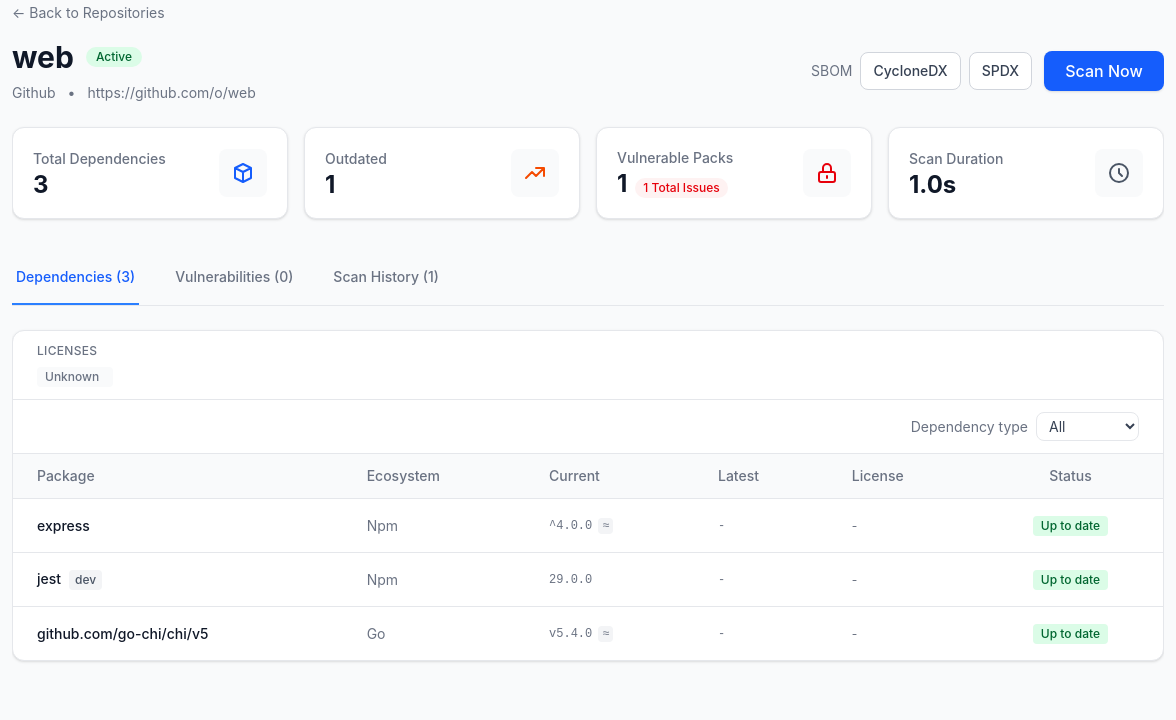
RepoDetail › dependency table › shows an empty message when the filter matches nothing, keeping the tab count
The width and height of the screenshot is (1176, 720).
Expected: the text "express" is shown, [13,498,343,552]
Select "Transitive" in the dropdown labelled "Dependency type" at coordinates (1088, 426), box [1036,412,1139,441]
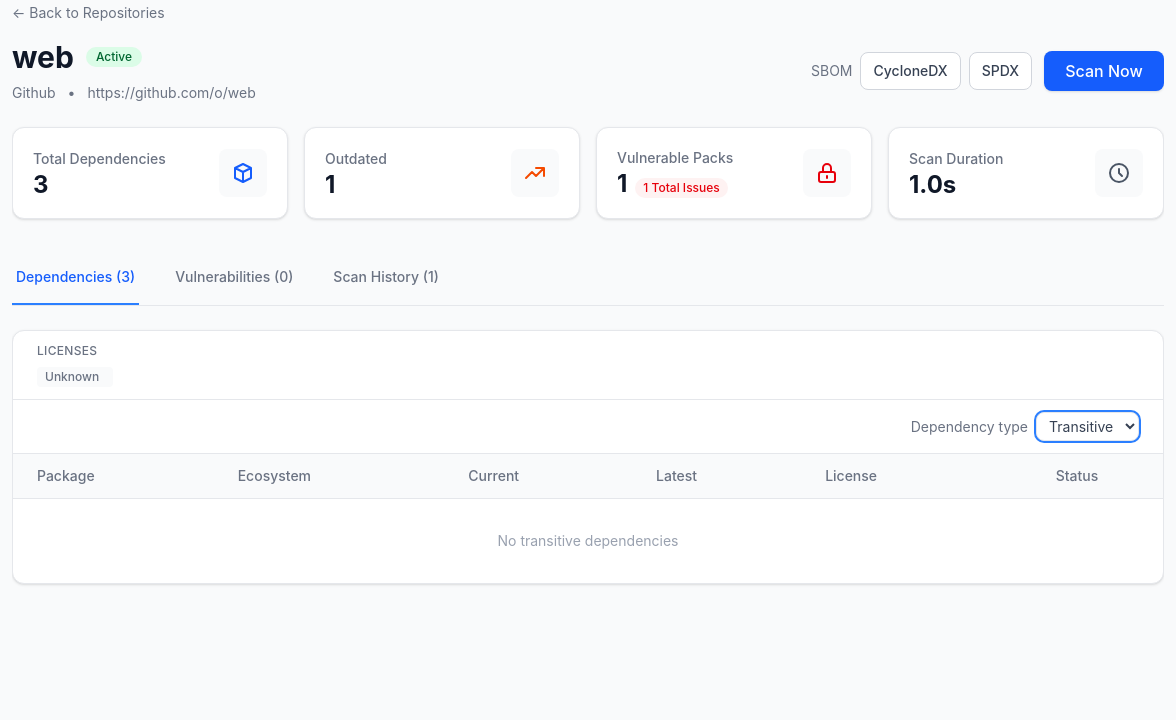
Expected: the button "Dependencies (3)" is shown, [12,251,139,305]
Now the text "No transitive dependencies" is shown, box [498,532,678,549]
